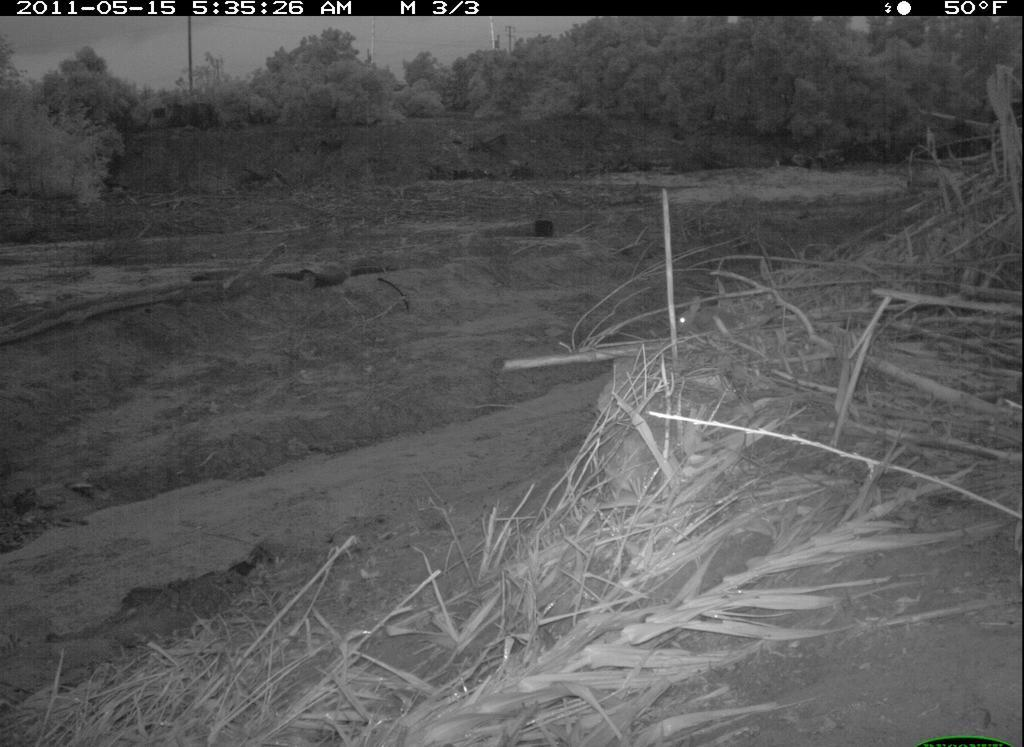rabbit: (673, 283, 770, 349)
